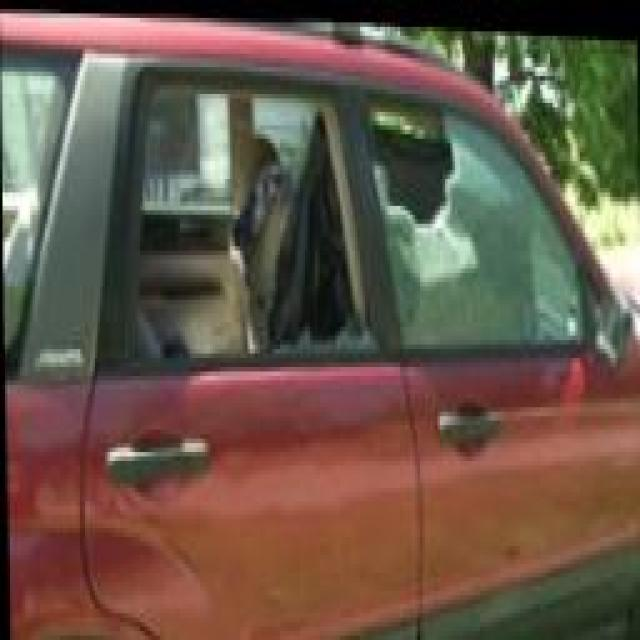Door: (52, 46, 640, 640)
